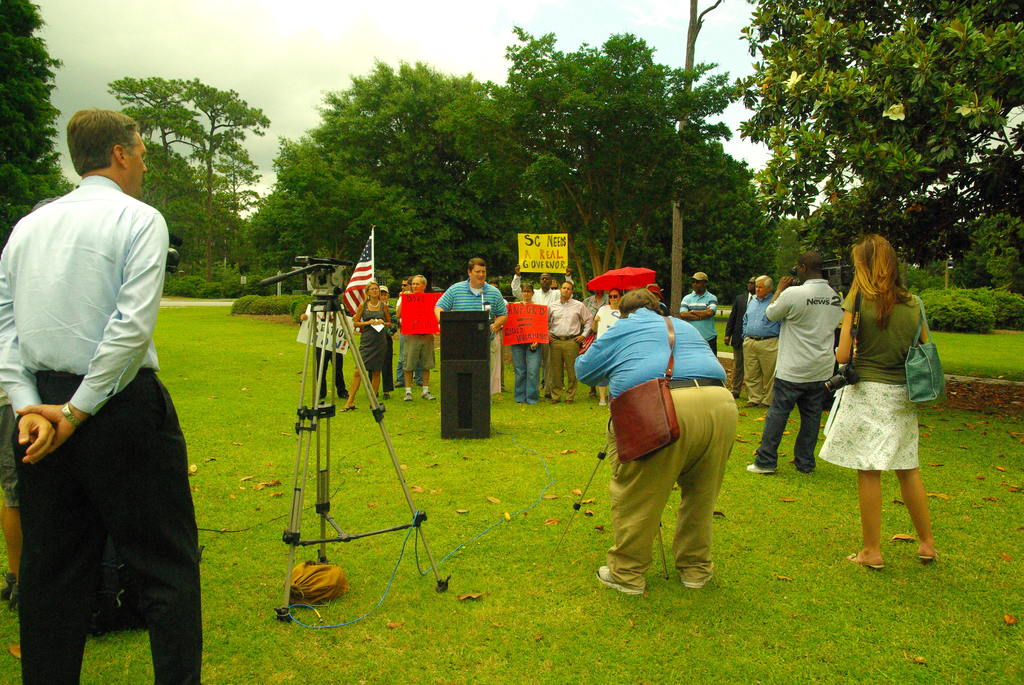Footwear: (594, 565, 641, 593), (683, 576, 714, 592), (746, 462, 773, 478), (420, 391, 437, 400), (339, 392, 349, 402), (404, 393, 413, 403), (746, 399, 756, 408), (732, 390, 740, 399), (548, 399, 559, 405), (564, 397, 572, 404)
